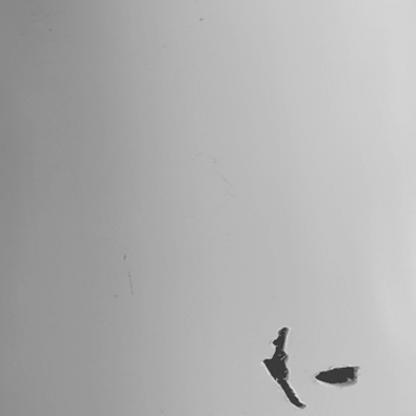kongdong: (256, 327, 310, 410), (311, 362, 361, 389)
